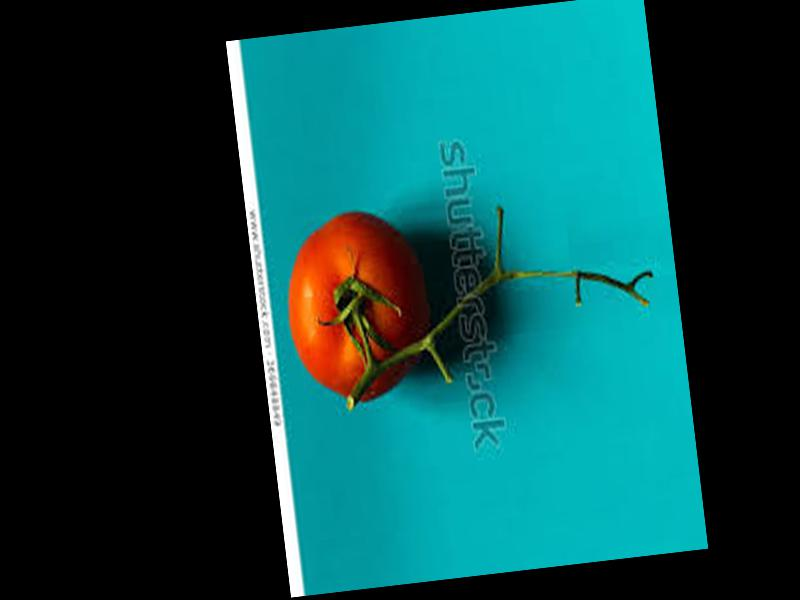Tomato: (279, 205, 435, 410)
